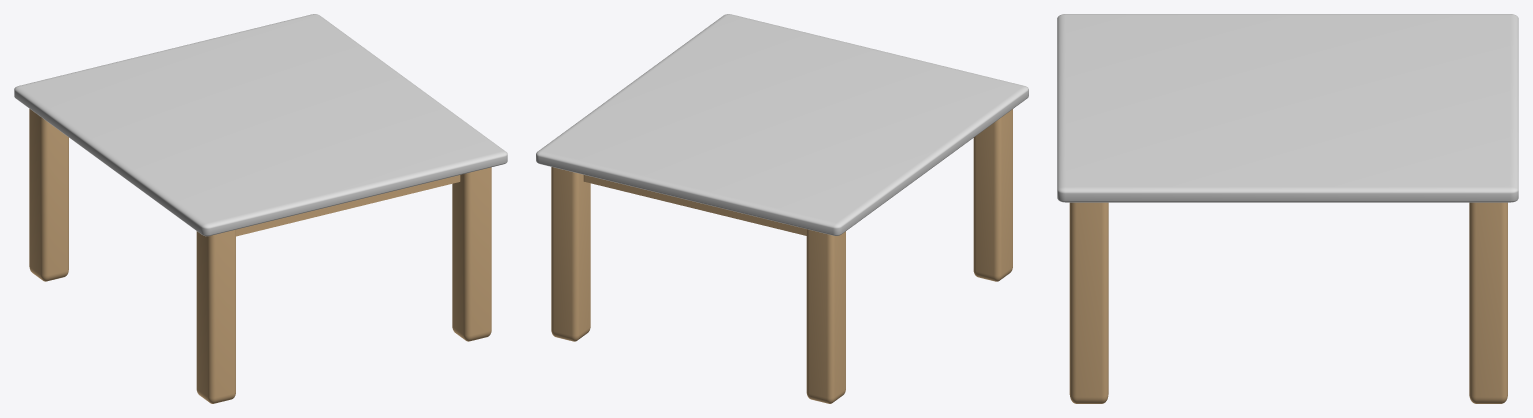
File: simple_square_table_B.glb
3 renders of one model, left to right at view 1: azimuth 30°, elevation 25°; view 2: azimuth 150°, elevation 25°; view 3: azimuth 270°, elevation 25°, orthographic. The views are drawn at different scales.
Visible parts, largest first — view 1: simple_square_table_B; view 2: simple_square_table_B; view 3: simple_square_table_B.
Boxes of the visible parts, x1,y1,x2,y2 form: simple_square_table_B: (14, 14, 507, 403); simple_square_table_B: (536, 14, 1028, 403); simple_square_table_B: (1057, 14, 1518, 403).
Bounding box in the file's own units: 1.62 × 0.9456 × 1.77.
